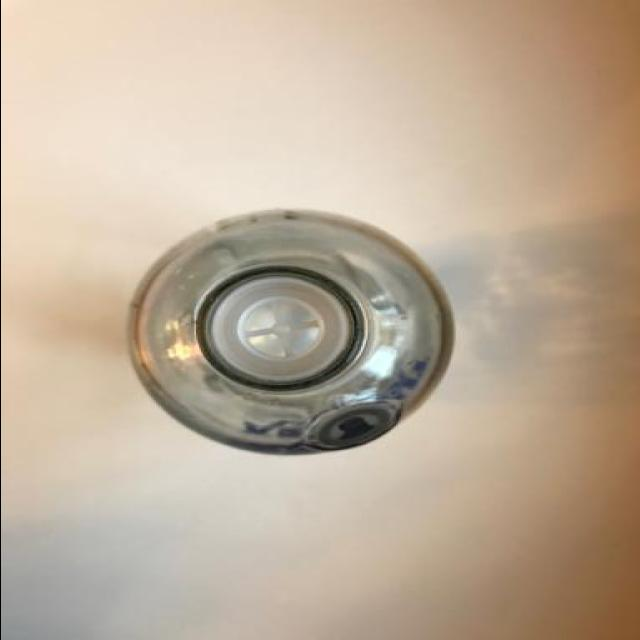Glass Bottle: (120, 205, 458, 459)
